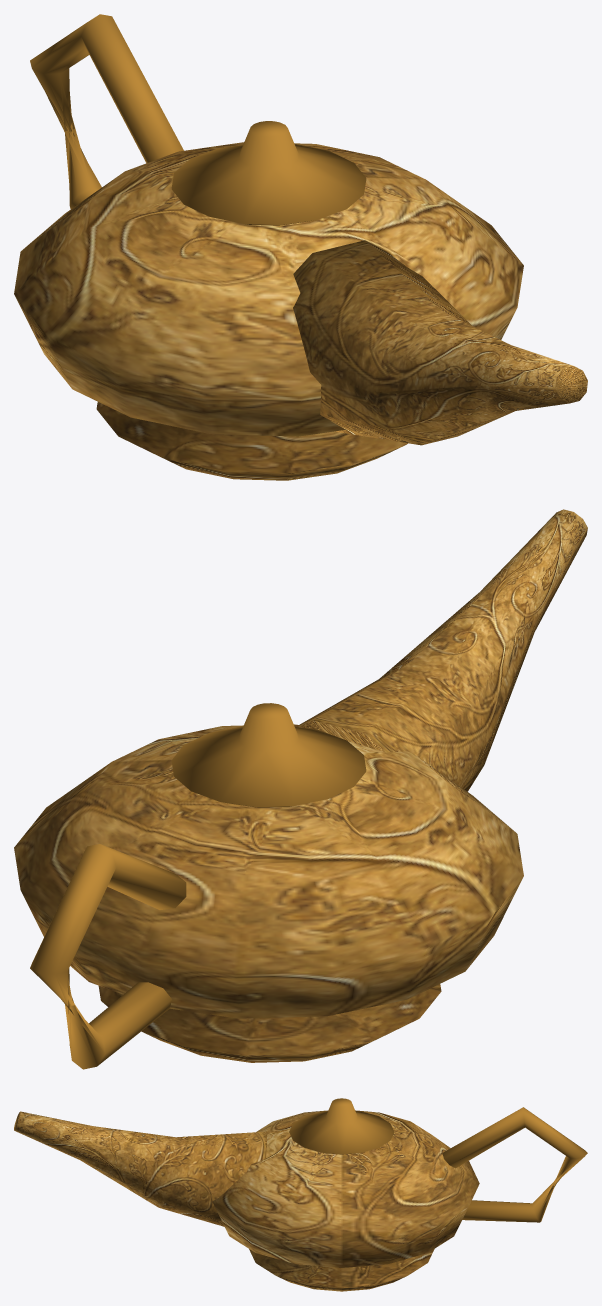
File: item_aladnlmp.glb
3 views of the same model, one above another, from view 1: azimuth 30°, elevation 25°; view 2: azimuth 150°, elevation 25°; view 3: azimuth 270°, elevation 25° (orthographic). The views are drawn at different scales.
Visible parts, largest first — view 1: props_aladnlmp; view 2: props_aladnlmp; view 3: props_aladnlmp.
Part boxes in pixels (x1,y1,x2,y2): props_aladnlmp: [14, 14, 587, 480]; props_aladnlmp: [14, 509, 587, 1069]; props_aladnlmp: [14, 1098, 587, 1291].
Size of the model in its own units: 0.68 by 0.43 by 1.41.
Materials: 2 (1 with a texture image).
